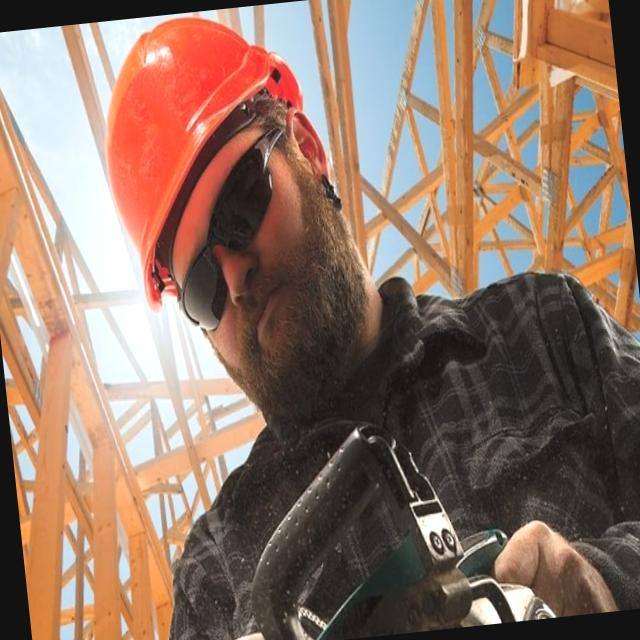goggles: (158, 110, 308, 370)
helmet: (84, 0, 334, 297)
no-vest: (279, 241, 640, 640)
